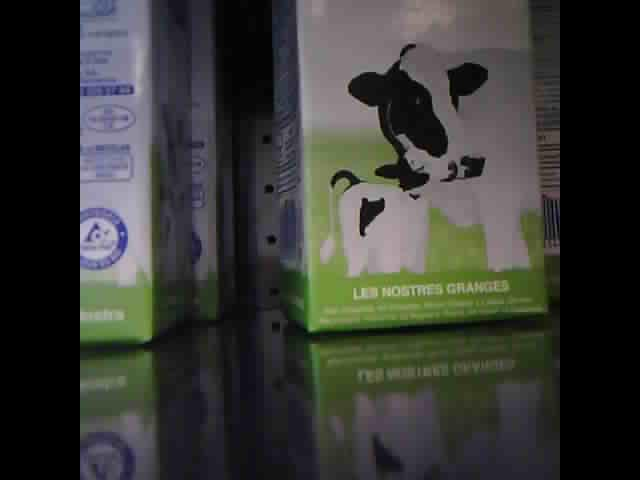leche: (278, 1, 536, 337), (81, 3, 189, 342), (191, 5, 227, 323), (537, 3, 559, 305)
